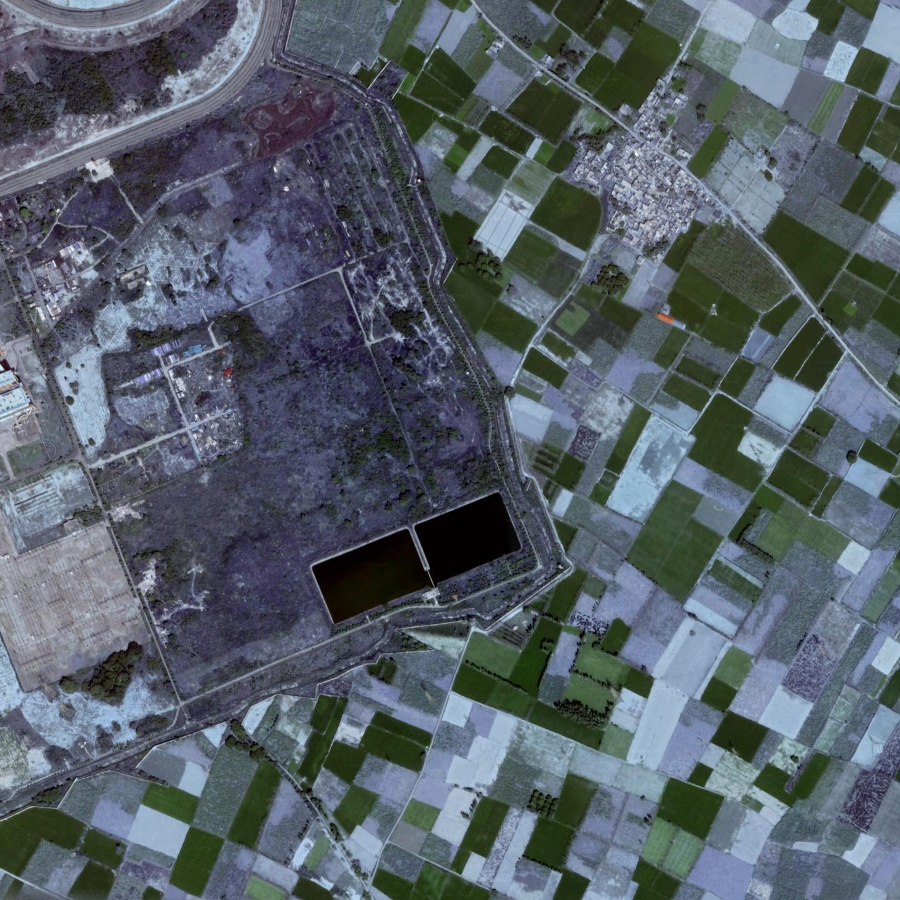PowerPlant: (291, 472, 532, 658)
